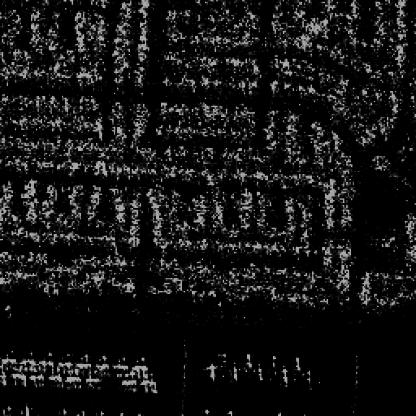airplane: (130, 356, 151, 377), (118, 375, 140, 395), (54, 354, 74, 374), (18, 354, 37, 374), (94, 353, 114, 372), (75, 353, 94, 372), (84, 372, 104, 390), (0, 351, 18, 371), (38, 351, 53, 374), (8, 370, 28, 387), (142, 377, 160, 395), (115, 354, 130, 374), (216, 351, 231, 371), (65, 370, 81, 388), (203, 362, 219, 380), (250, 366, 266, 382), (302, 367, 316, 385), (30, 372, 46, 387), (276, 369, 291, 385), (291, 354, 302, 374), (228, 364, 240, 382), (242, 351, 254, 369), (268, 354, 280, 372), (47, 372, 63, 385), (0, 369, 8, 387), (0, 410, 13, 414)
